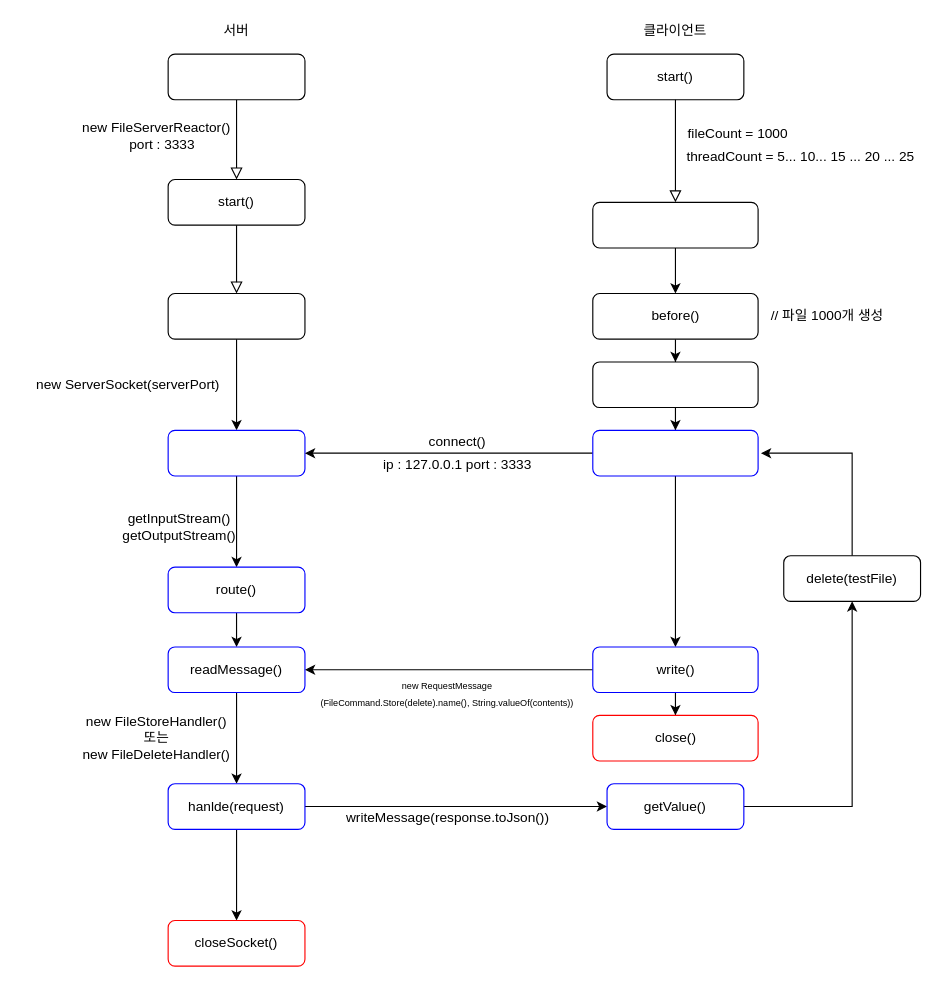
This 941x986 diagram has some shape labels left out. The centre of each missing label's shape, as x and y in pixels:
accept(): (x=236, y=452)
getDispatcher(): (x=675, y=452)
initServerSocket(): (x=236, y=315)
showStoreDemo(): (x=675, y=224)
startServer(): (x=236, y=76)
store(testFile): (x=675, y=384)
